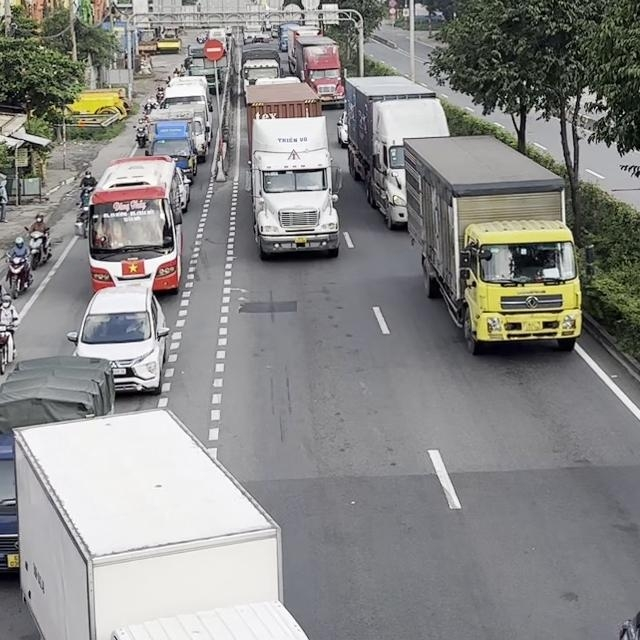bus: (85, 155, 183, 294)
car: (66, 284, 170, 395), (336, 109, 347, 147)
motorcycle: (4, 250, 33, 298), (23, 225, 51, 269), (0, 318, 19, 374), (73, 206, 90, 238), (78, 185, 94, 209), (135, 124, 148, 148)
truck: (11, 406, 313, 639), (401, 133, 582, 355), (0, 354, 115, 576), (244, 76, 342, 259), (343, 75, 450, 230), (286, 31, 346, 108), (159, 75, 213, 144), (146, 106, 208, 161), (239, 43, 283, 97), (184, 42, 228, 94), (277, 22, 322, 51)
